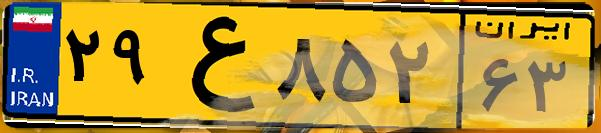2: (385, 28, 445, 110), (57, 26, 110, 100)
3: (525, 38, 570, 115)
5: (330, 28, 385, 110)
6: (475, 38, 525, 113)
8: (270, 28, 330, 110)
9: (110, 28, 158, 98)
ع: (158, 12, 270, 120)
